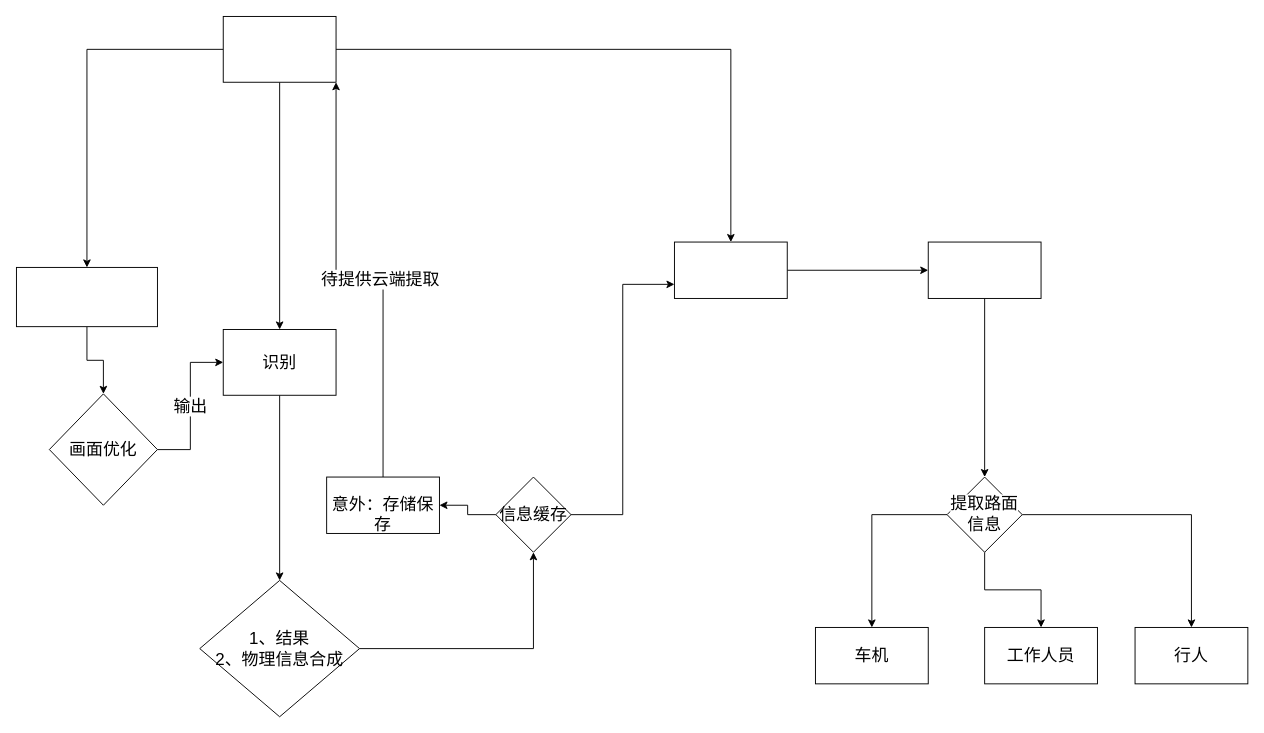
Image size: 1264x733. Some labels were removed from this diagram. The box of each missing label's shape, as (x1, y1, x2, y2) in pixels:
摄像头: (16, 266, 157, 327)
无感连接触发: (927, 241, 1041, 298)
路灯: (222, 16, 336, 82)
通信: (674, 241, 787, 298)
